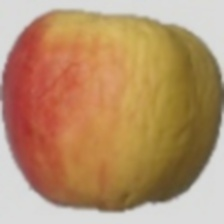apple: (23, 18, 224, 209)
